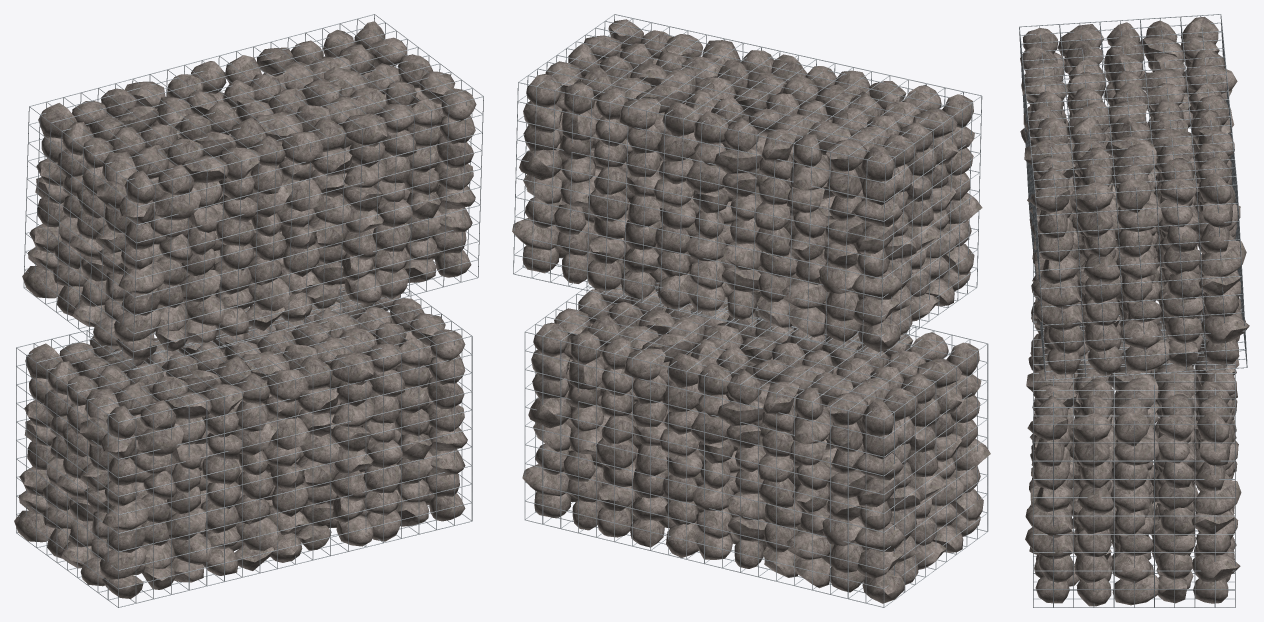
The model's file is FUN-GAB-001_anim.glb.
The picture shows the model from 3 angles, left to right: view 1: azimuth 30°, elevation 25°; view 2: azimuth 150°, elevation 25°; view 3: azimuth 270°, elevation 25°; orthographic projection. The views are drawn at different scales.
Visible parts, largest first — view 1: FUN-GAB-001_anim1, FUN-GAB-001_anim0; view 2: FUN-GAB-001_anim1, FUN-GAB-001_anim0; view 3: FUN-GAB-001_anim1, FUN-GAB-001_anim0.
Boxes of the visible parts, x1,y1,x2,y2 form: FUN-GAB-001_anim1: (22, 14, 483, 369); FUN-GAB-001_anim0: (14, 284, 472, 607); FUN-GAB-001_anim1: (512, 14, 982, 355); FUN-GAB-001_anim0: (522, 281, 990, 607); FUN-GAB-001_anim1: (1019, 14, 1249, 380); FUN-GAB-001_anim0: (1025, 253, 1245, 607).
Bounding box in the file's own units: 2.13 × 2.38 × 1.14.
Materials: 2 (2 with a texture image).
